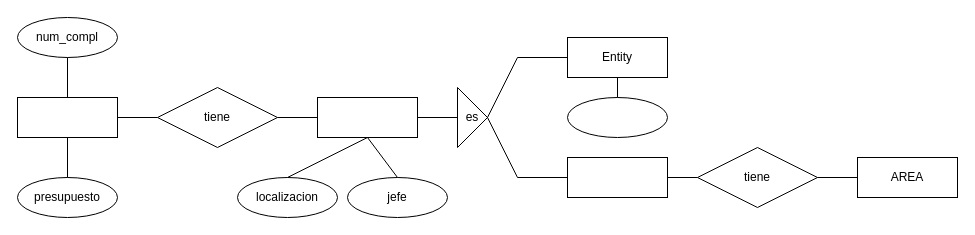
Image size: 975x235. Some labels were removed from this diagram. The shapes that lost their labels are listed below. From the top down, each one's box as (x1, y1, x2, y2) in pixels, then its label:
(16, 96, 118, 138): SEDE
(316, 96, 418, 138): COMPLEJO
(566, 96, 668, 138): id
(566, 156, 668, 198): POLIDEPORTIVO
